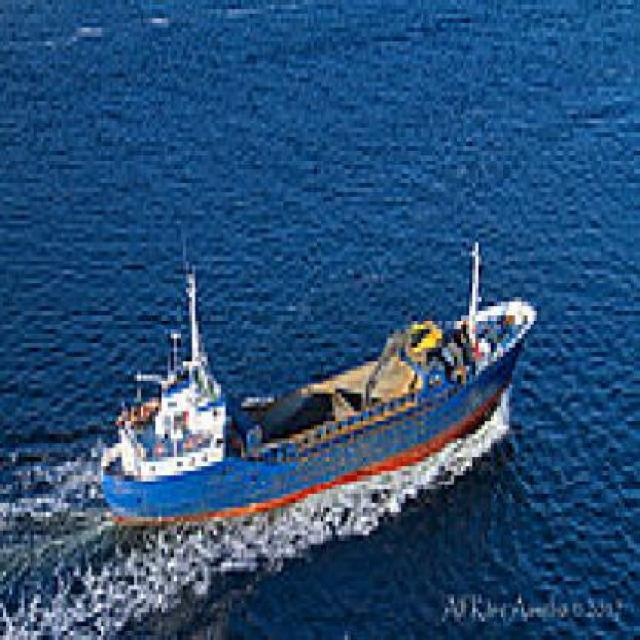container: (90, 202, 550, 554)
